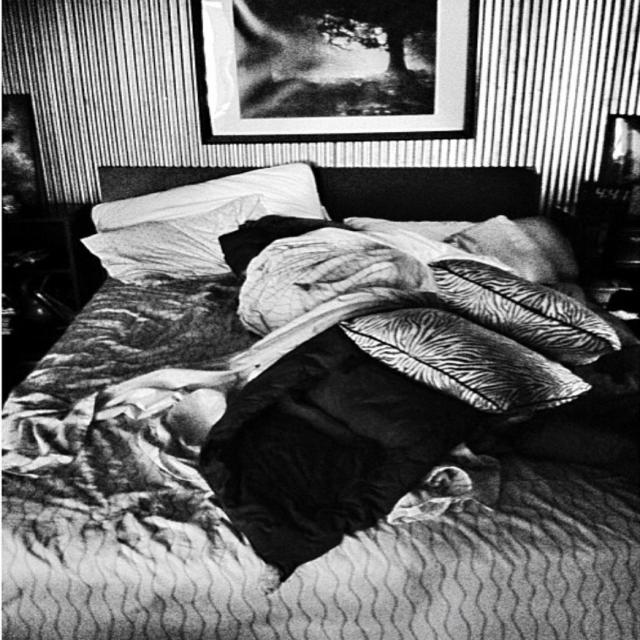bed: (70, 139, 579, 640)
